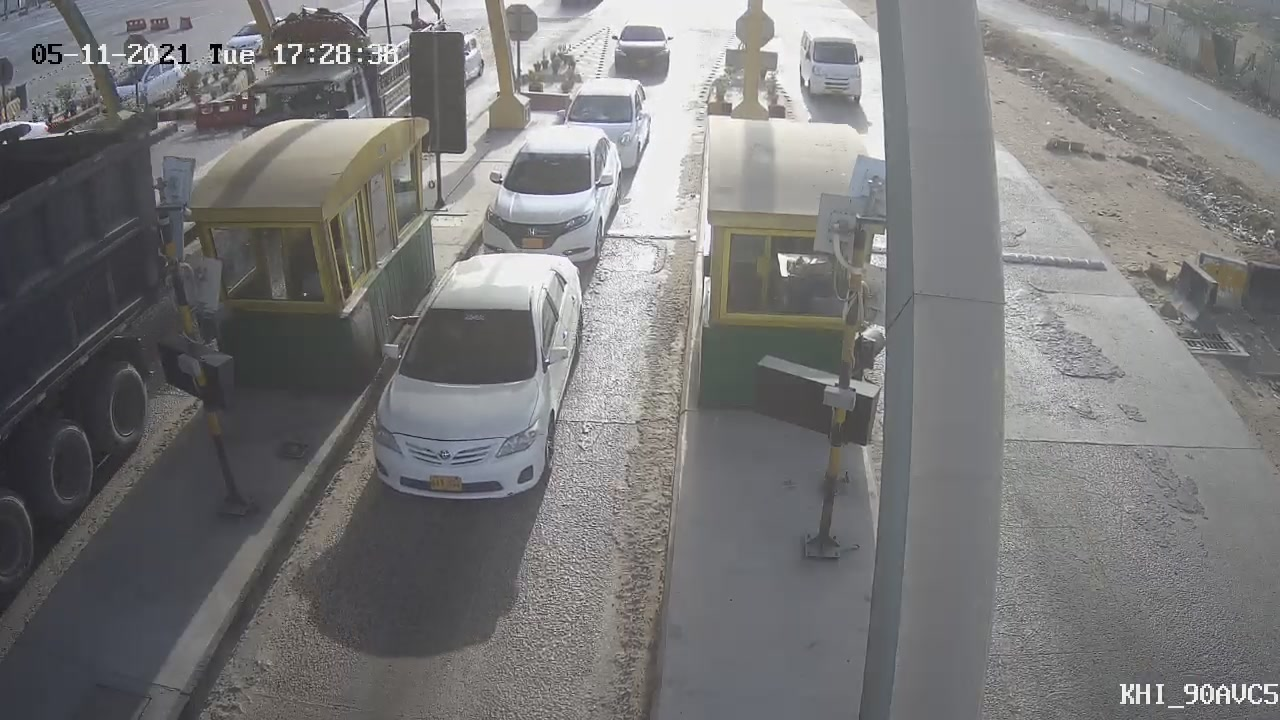F1: (347, 235, 601, 522), (459, 109, 636, 278)
